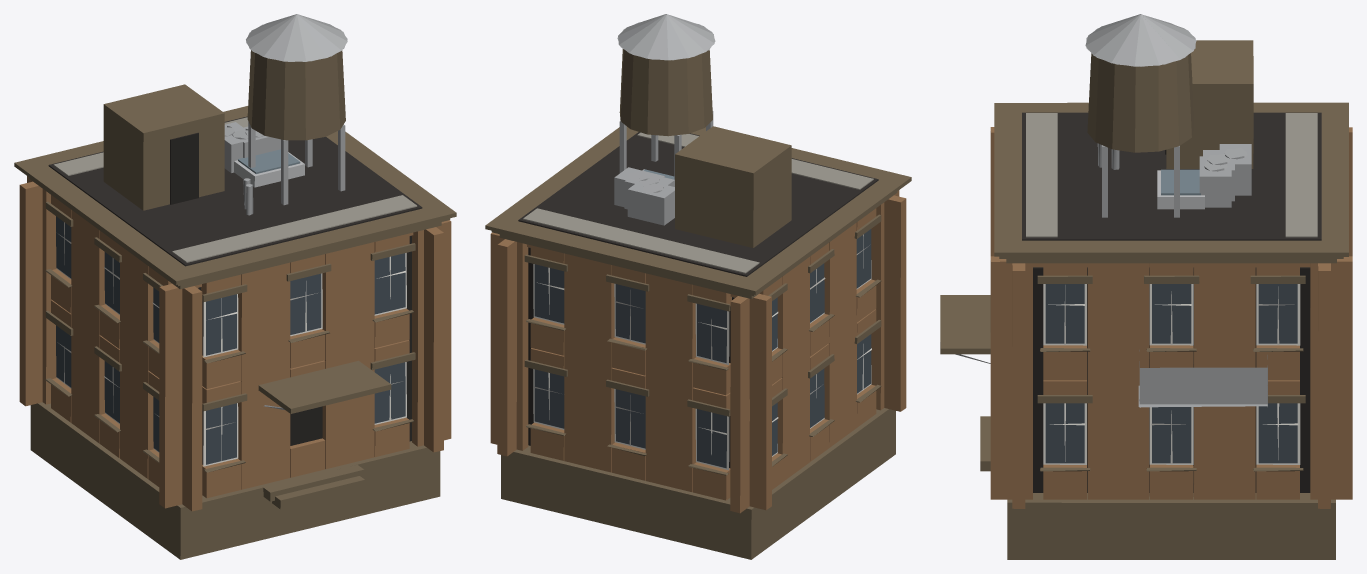
Rendered from brick-house-lod1.glb.
3 views of the same model, side by side, from view 1: azimuth 30°, elevation 25°; view 2: azimuth 150°, elevation 25°; view 3: azimuth 270°, elevation 25° (orthographic). The views are drawn at different scales.
Visible parts, largest first — view 1: brick-house.001; view 2: brick-house.001; view 3: brick-house.001.
Part boxes in pixels (bbox=[...]): brick-house.001: bbox=[14, 14, 456, 559]; brick-house.001: bbox=[485, 14, 911, 559]; brick-house.001: bbox=[940, 14, 1352, 559].
Bounding box in the file's own units: 9.93 × 13.85 × 10.32.
